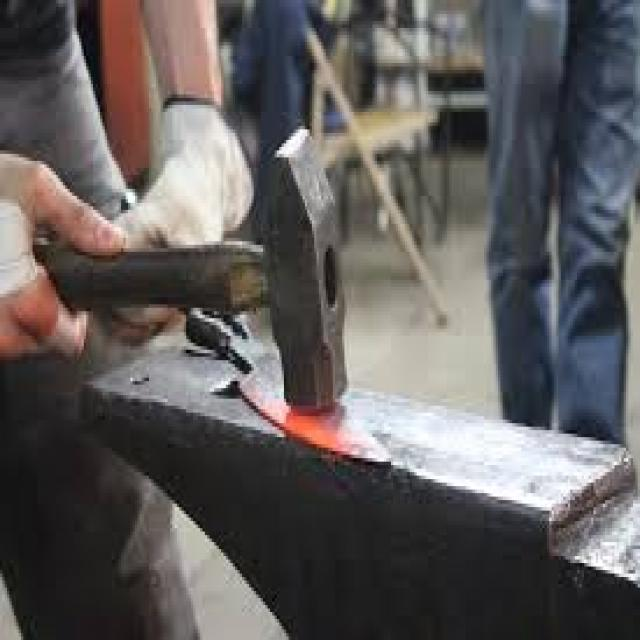hammer: (26, 103, 360, 460)
